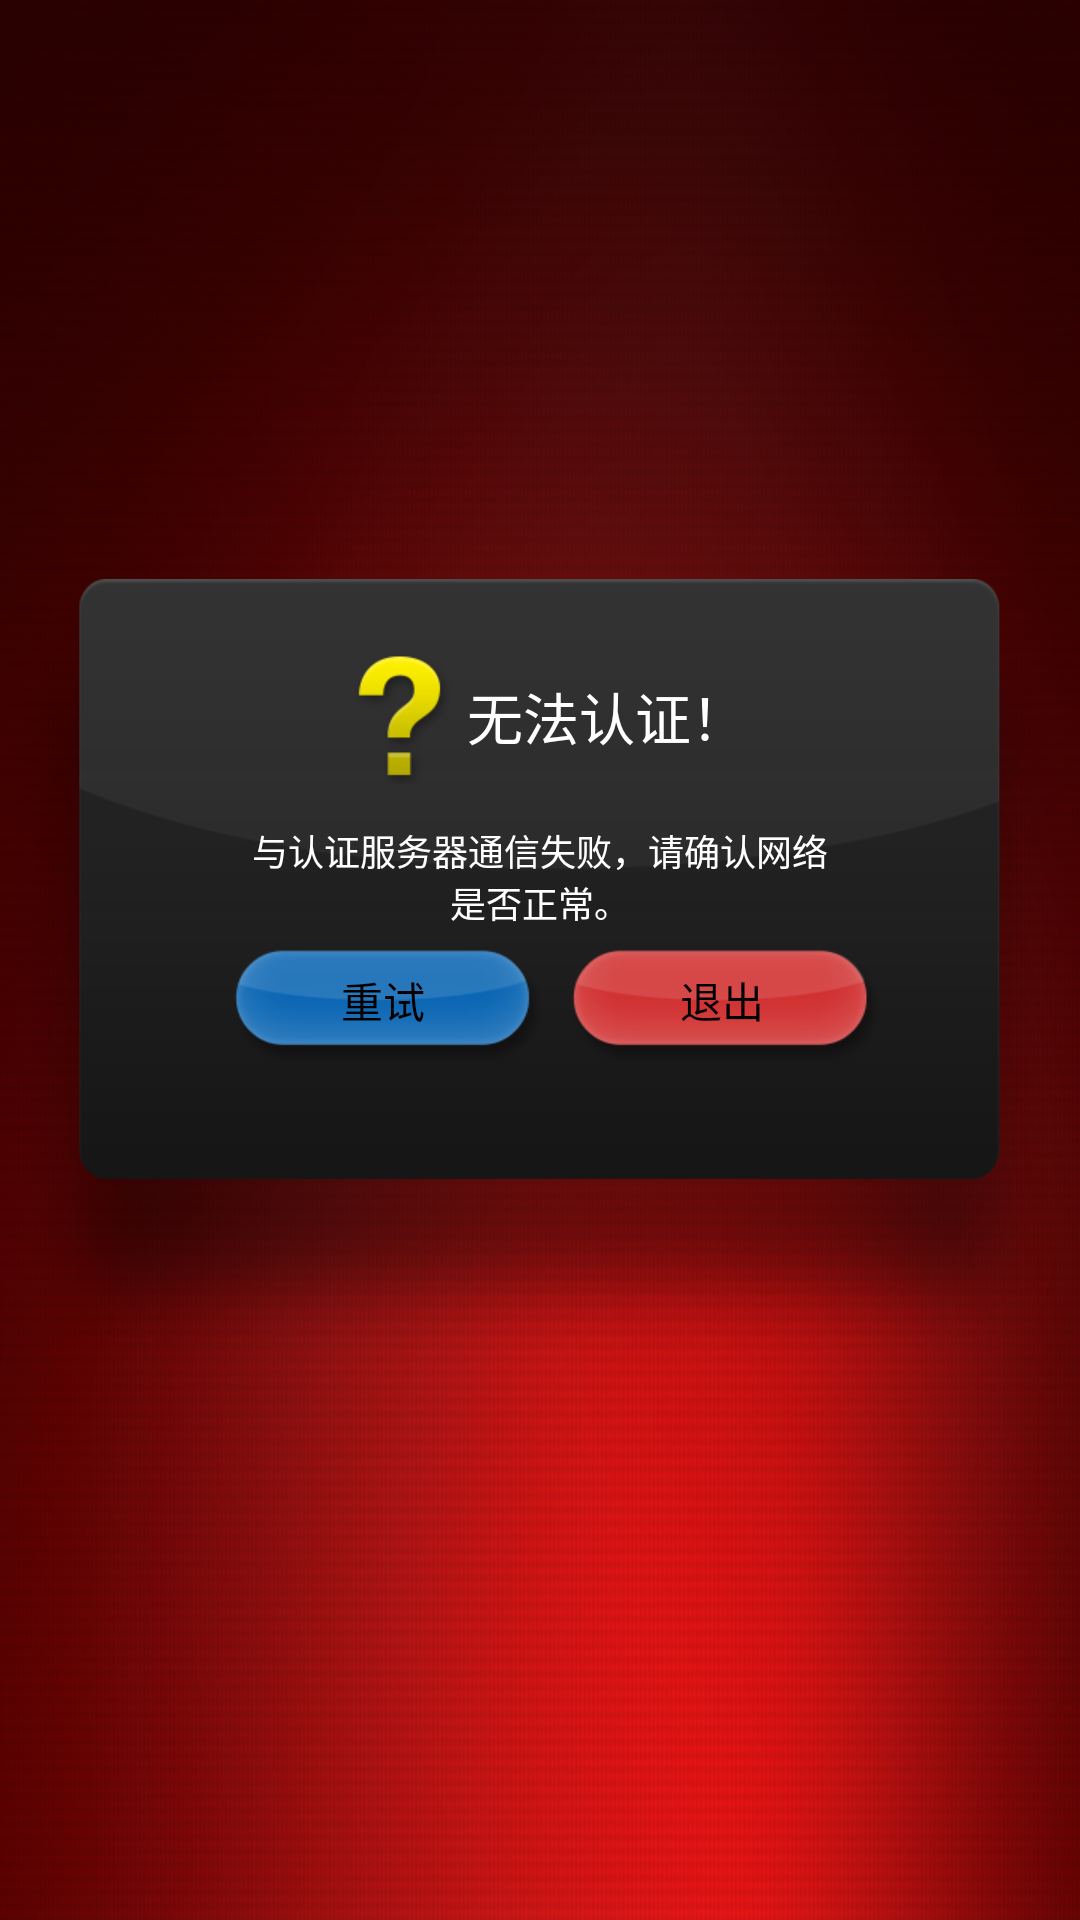

Where to tap for icons on this 1080w x 1920h app screen, as [x,y]:
query: [399,715]
